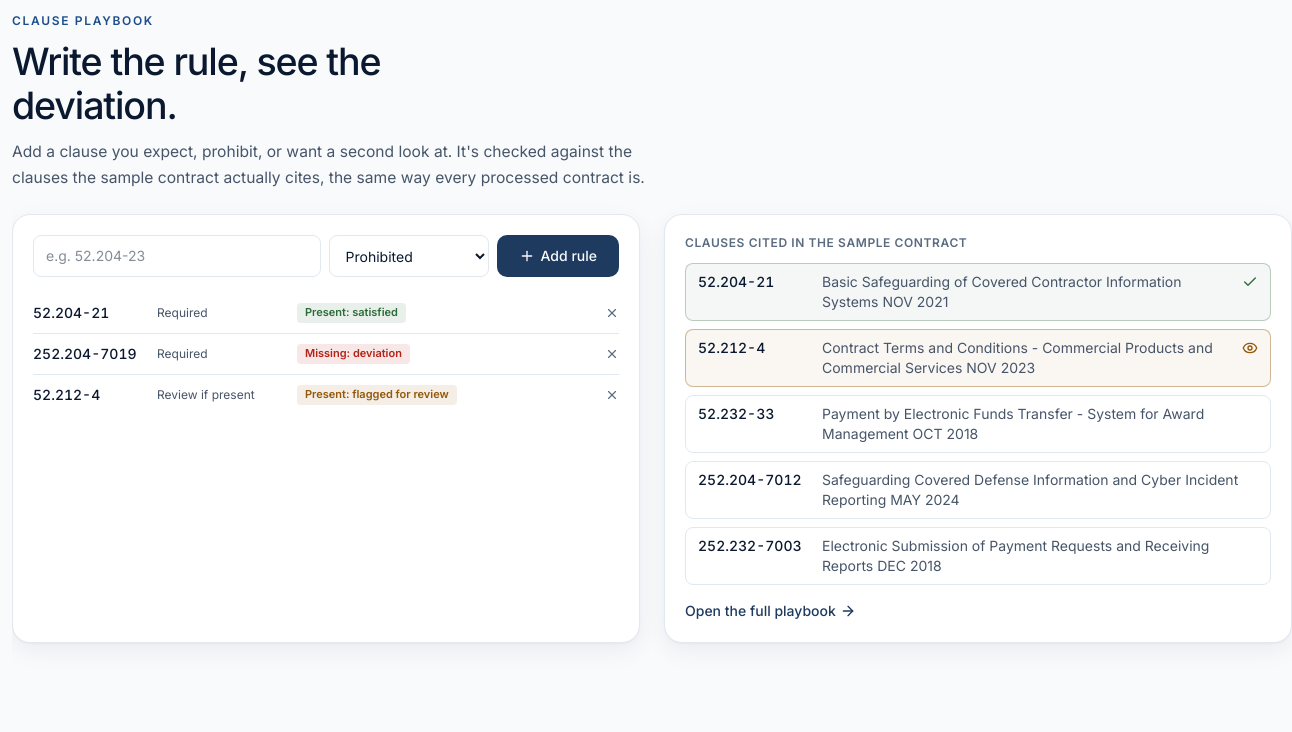
Scenario: PlaybookPreview › adds a prohibited rule and flags it when the clause is cited
Type "DFARS 252.232-7003" into the field named "Clause number".
click(177, 256); type("DFARS 252.232-7003")  # box x1=33 y1=235 x2=320 y2=277
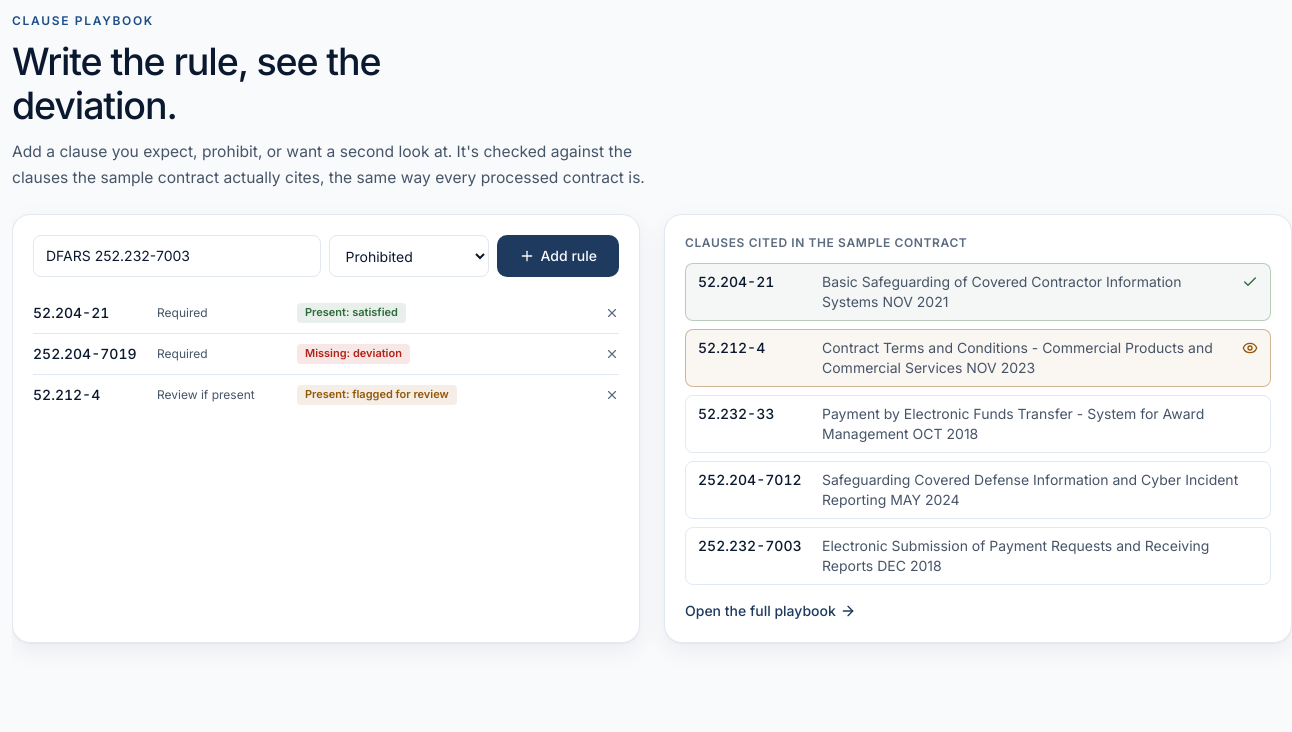
Select "Prohibited" in the dropdown named "Expectation" at (408, 256), box x1=328 y1=235 x2=488 y2=277
Click the button "Add rule".
click(558, 256)  # box x1=496 y1=235 x2=619 y2=277
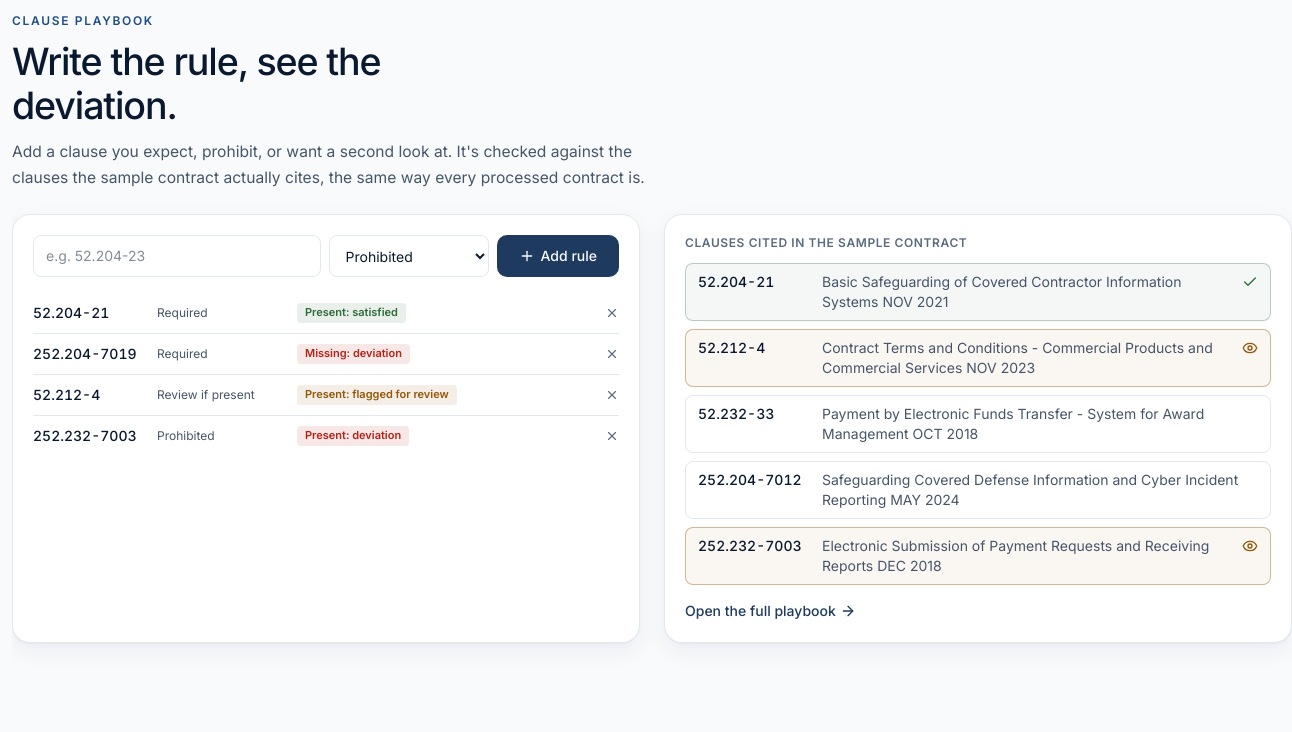
Expected: the text "Present: deviation" is shown, x1=297 y1=426 x2=409 y2=446
